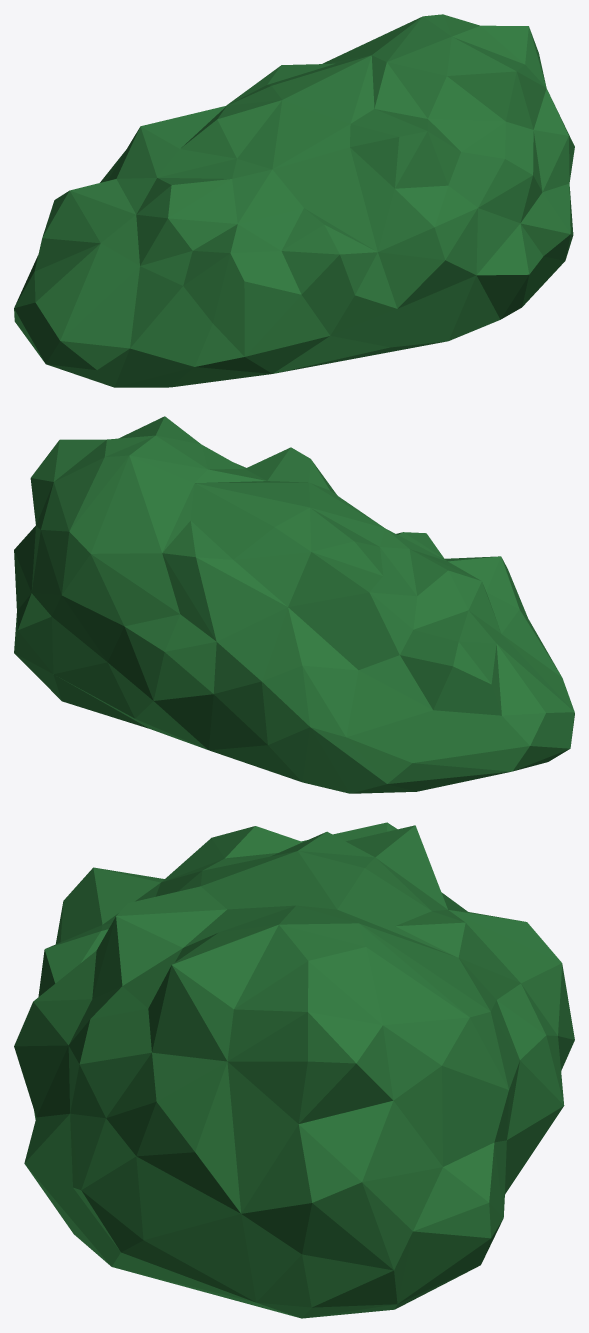
File: delh_foli_07_02.fbx
The picture shows the model from 3 angles, top to bottom: view 1: azimuth 30°, elevation 25°; view 2: azimuth 150°, elevation 25°; view 3: azimuth 270°, elevation 25°; orthographic projection. The views are drawn at different scales.
Parts seen in each view (by area): view 1: delh_foli_07_02; view 2: delh_foli_07_02; view 3: delh_foli_07_02.
Part boxes in pixels (x1,y1,x2,y2): delh_foli_07_02: (14,14,574,387); delh_foli_07_02: (14,416,574,793); delh_foli_07_02: (14,822,574,1318).
Bounding box in the file's own units: 142 × 60.91 × 89.75.
